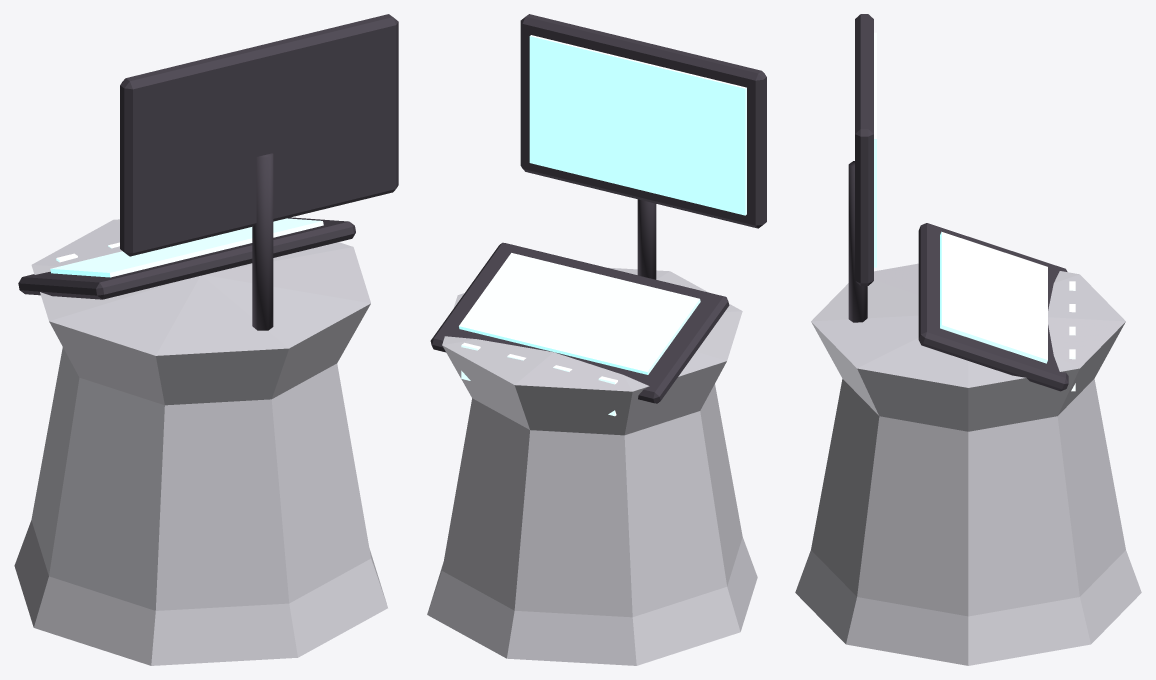
File: v_ab_console.glb
The picture shows the model from 3 angles, left to right: view 1: azimuth 30°, elevation 25°; view 2: azimuth 150°, elevation 25°; view 3: azimuth 270°, elevation 25°; orthographic projection. The views are drawn at different scales.
Visible parts, largest first — view 1: Console; view 2: Console; view 3: Console.
Boxes of the visible parts, x1,y1,x2,y2 form: Console: (14, 14, 398, 665); Console: (427, 14, 766, 665); Console: (795, 14, 1141, 665).
Size of what is drawn, in the model's own units: 1.1 by 1.82 by 1.1.
